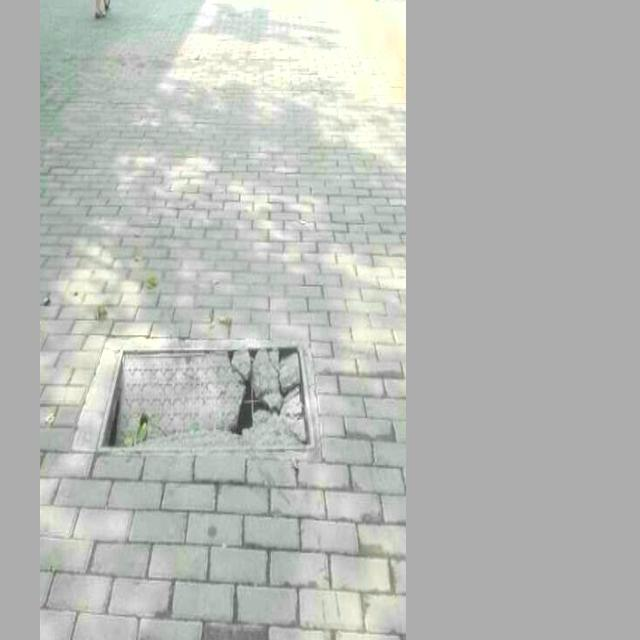broke: (96, 341, 319, 457)
